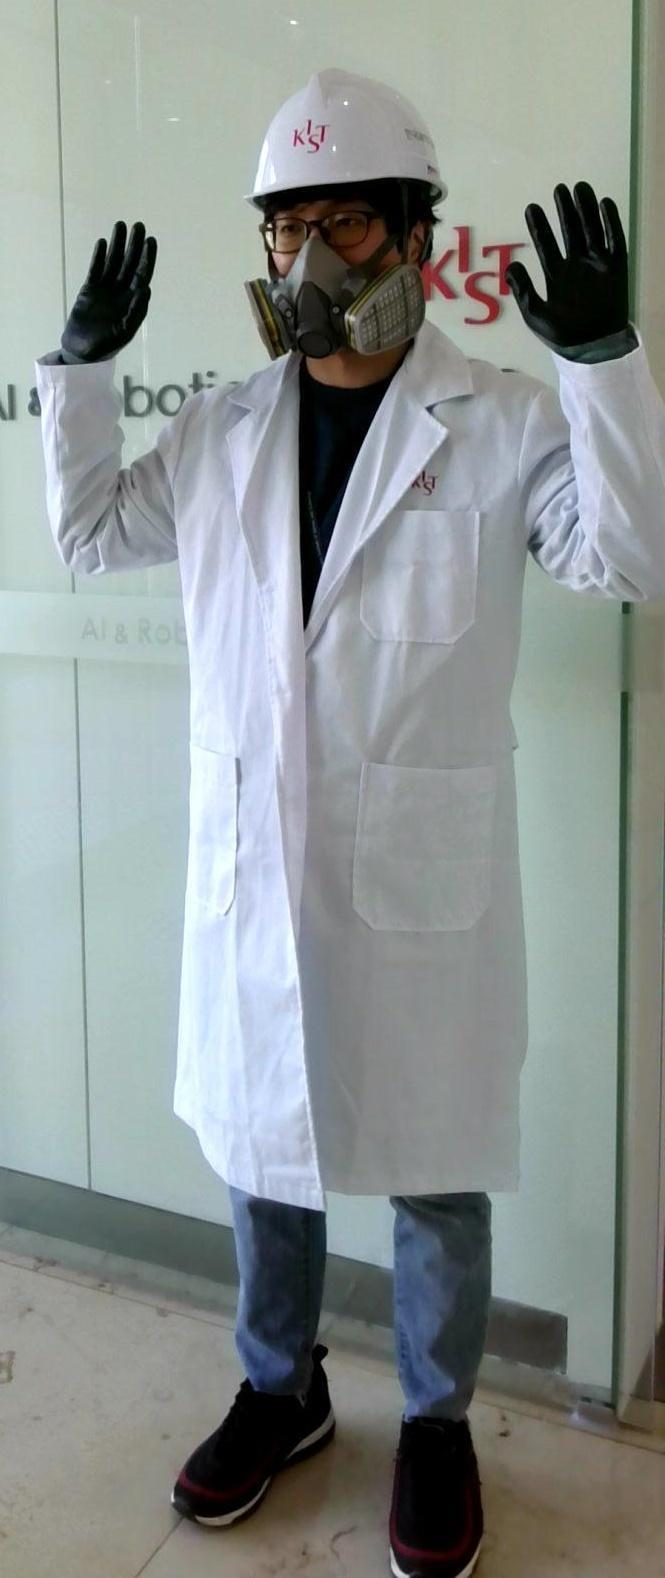lab_coat: (145, 398, 547, 1179)
